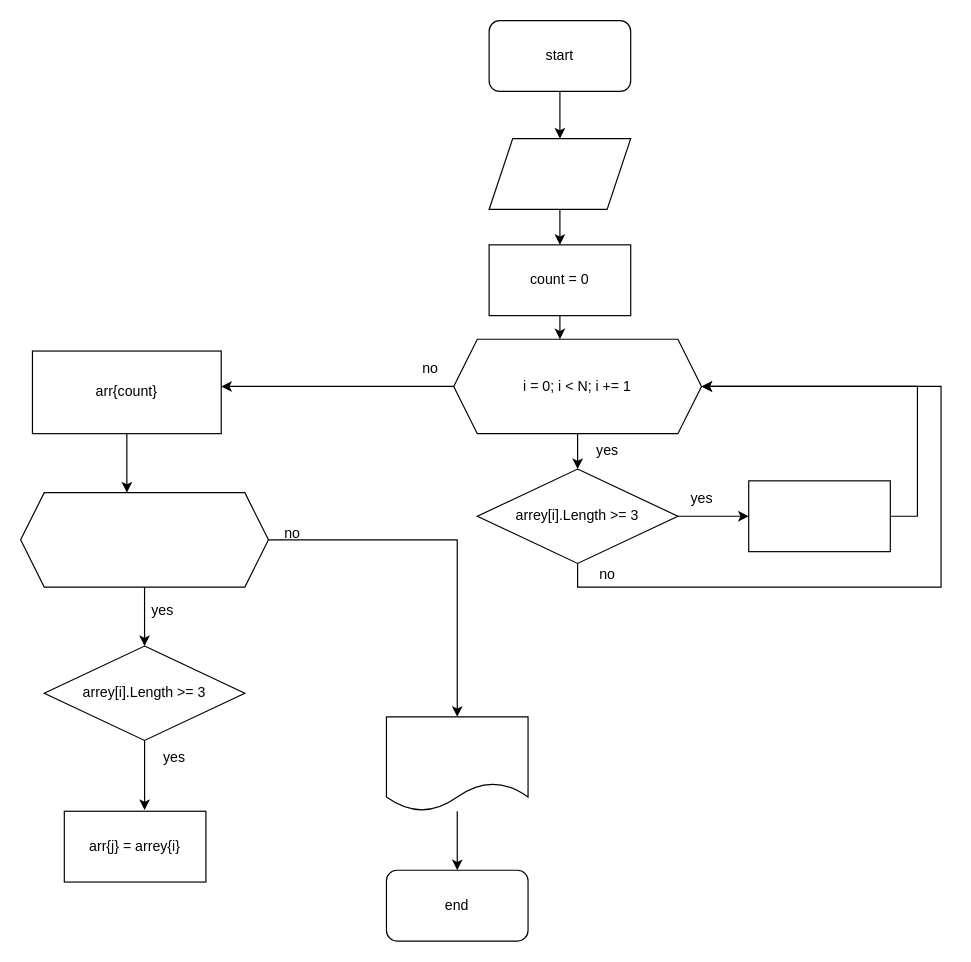
Some shapes in this 971 by 962 pixel diagram are drawn without their labels. Here are the shapes that lost their labels. From the top down, the centre of each, then its label:
At point (559, 173): "ввод: N arrey{N}".
At point (819, 516): "count +=1".
At point (143, 539): "j = 0; j < count; j += 1".
At point (456, 763): "print (arr)".
